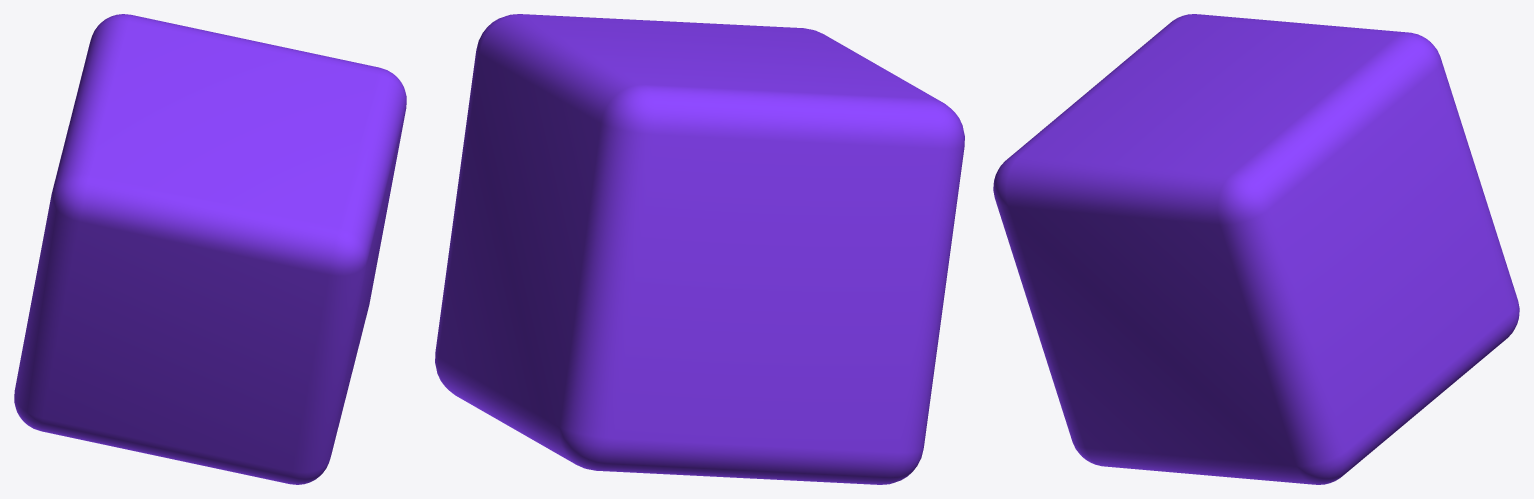
3 views of the same model, side by side, from view 1: azimuth 30°, elevation 25°; view 2: azimuth 150°, elevation 25°; view 3: azimuth 270°, elevation 25° (orthographic). The views are drawn at different scales.
Visible parts, largest first — view 1: 10; view 2: 10; view 3: 10.
Part boxes in pixels (left/top/right/bottom): 10: left=14, top=14, right=406, bottom=484; 10: left=435, top=14, right=964, bottom=484; 10: left=993, top=14, right=1519, bottom=484.
Bounding box in the file's own units: 7.55 × 7.27 × 8.51.
